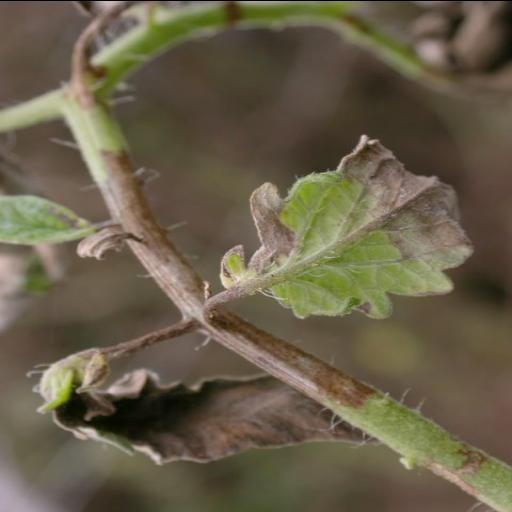Late Blight: (224, 134, 486, 326)
